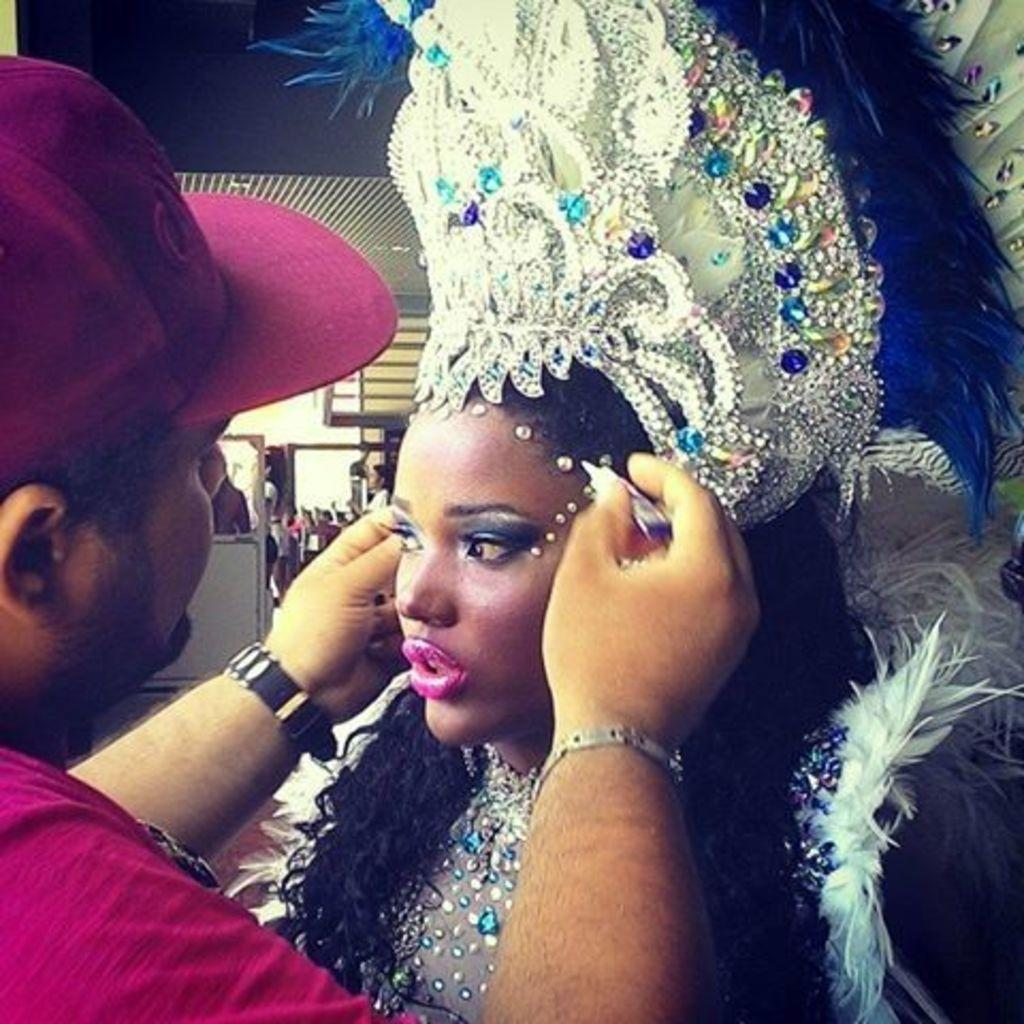Hat: (0, 50, 405, 484)
